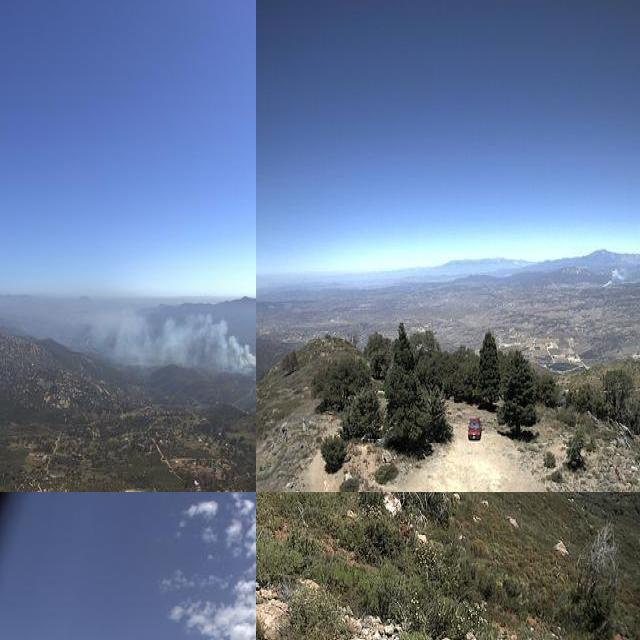smoke: (44, 293, 256, 377), (592, 258, 640, 294)
